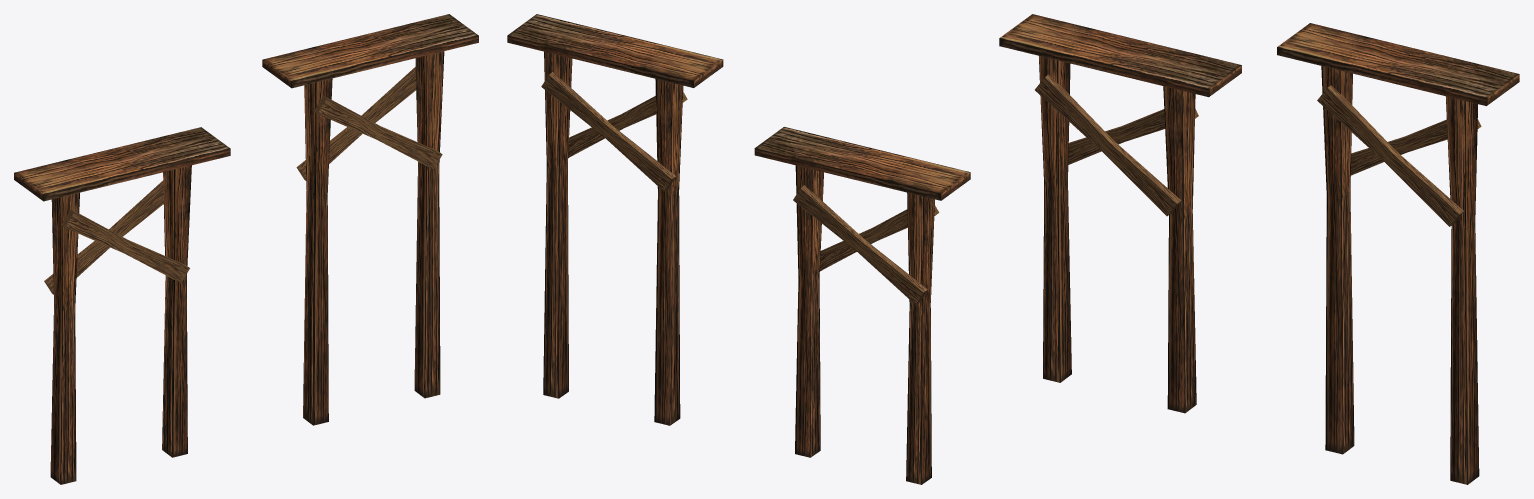
Rendered from LAKETOWN_WAREHOUSE2_PS_WH2_PLATFORM1_388__GX.fbx.
3 views of the same model, side by side, from view 1: azimuth 30°, elevation 25°; view 2: azimuth 150°, elevation 25°; view 3: azimuth 330°, elevation 25° (orthographic). The views are drawn at different scales.
Parts seen in each view (by area): view 1: LAKETOWN_WAREHOUSE2_PS_WH2_PLATFORM1_388__GX; view 2: LAKETOWN_WAREHOUSE2_PS_WH2_PLATFORM1_388__GX; view 3: LAKETOWN_WAREHOUSE2_PS_WH2_PLATFORM1_388__GX.
Part boxes in pixels (box(x1,y1,x2,y2)): LAKETOWN_WAREHOUSE2_PS_WH2_PLATFORM1_388__GX: box(14, 14, 478, 484); LAKETOWN_WAREHOUSE2_PS_WH2_PLATFORM1_388__GX: box(507, 14, 970, 484); LAKETOWN_WAREHOUSE2_PS_WH2_PLATFORM1_388__GX: box(999, 14, 1519, 484).
Size of the model in its own units: 94186 by 74506 by 11045.
Materials: 3 (3 with a texture image).
